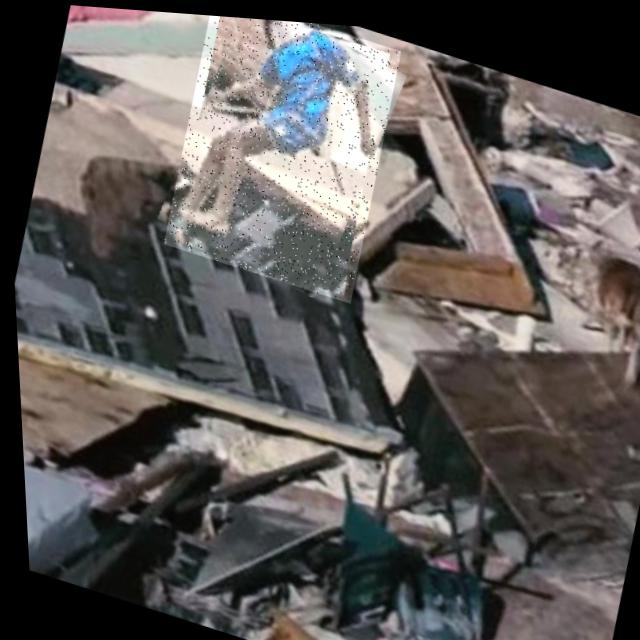Person in Rubble: (151, 9, 410, 301)
